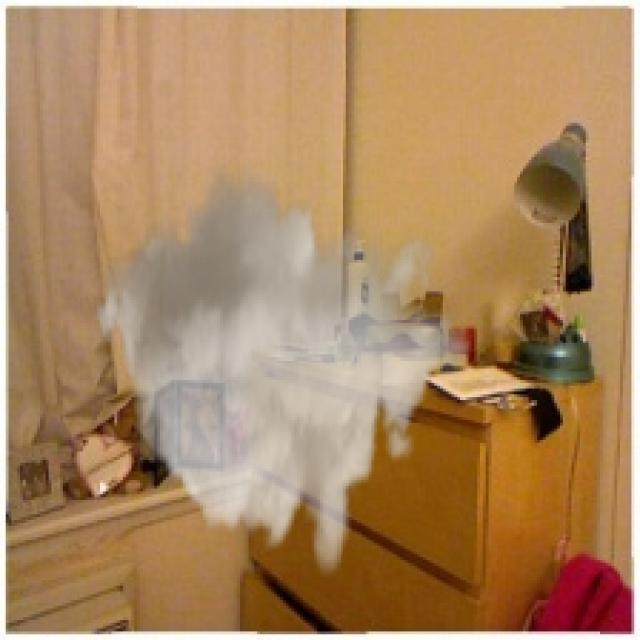Smoke: (91, 157, 472, 580)
